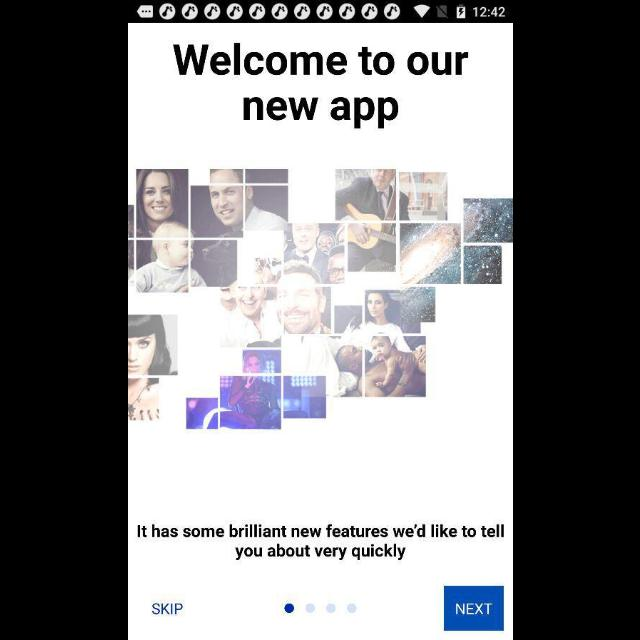image: (128, 170, 512, 430)
pageindicator: (284, 604, 356, 614)
text: (172, 44, 468, 130), (134, 522, 504, 562), (151, 602, 183, 616)
textbutton: (443, 586, 503, 630)
uppertaskbar: (128, 1, 512, 23)
